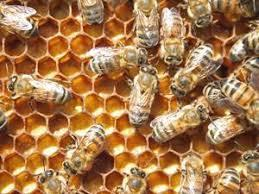worker-bee: (150, 96, 209, 142), (171, 43, 220, 96), (203, 77, 258, 124), (63, 124, 104, 174), (7, 74, 71, 103), (221, 77, 258, 124), (86, 46, 147, 74), (129, 65, 157, 125), (159, 8, 185, 65), (0, 2, 36, 37), (206, 115, 248, 143), (134, 0, 158, 47), (179, 152, 205, 193), (229, 28, 258, 61), (233, 57, 258, 90), (115, 167, 146, 193), (208, 168, 240, 193), (241, 150, 258, 193), (185, 0, 212, 27), (38, 169, 67, 193), (209, 0, 240, 20), (78, 0, 103, 24), (203, 82, 225, 107), (238, 0, 258, 16), (104, 0, 127, 8), (0, 108, 6, 130)
